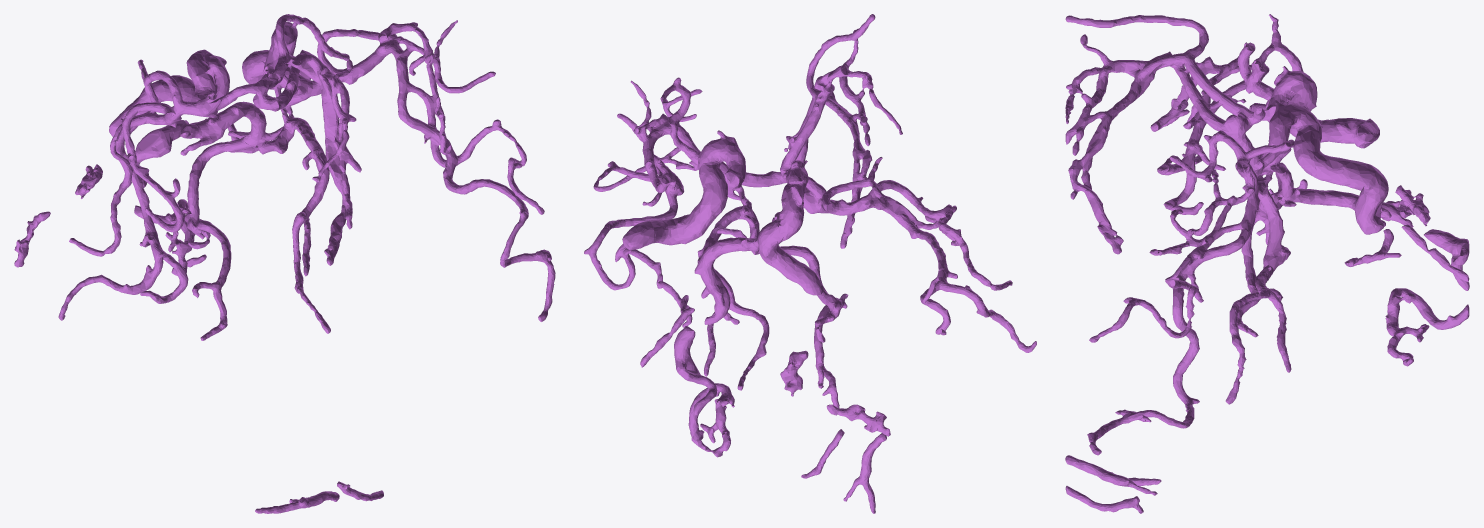
Rendered from vessel_tree.glb.
3 views of the same model, side by side, from view 1: azimuth 30°, elevation 25°; view 2: azimuth 150°, elevation 25°; view 3: azimuth 270°, elevation 25° (orthographic). The views are drawn at different scales.
Parts seen in each view (by area): view 1: world; view 2: world; view 3: world.
Boxes of the visible parts, box(x1,y1,x2,y2) form: world: box(14, 14, 555, 513); world: box(584, 14, 1036, 513); world: box(1065, 14, 1469, 513).
Bounding box in the file's own units: 137 × 135 × 100.
